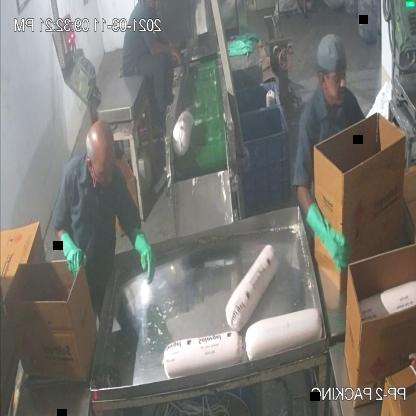glove: (302, 200, 358, 275), (128, 223, 160, 291), (54, 230, 94, 283)
no_glove: (140, 37, 184, 72)
